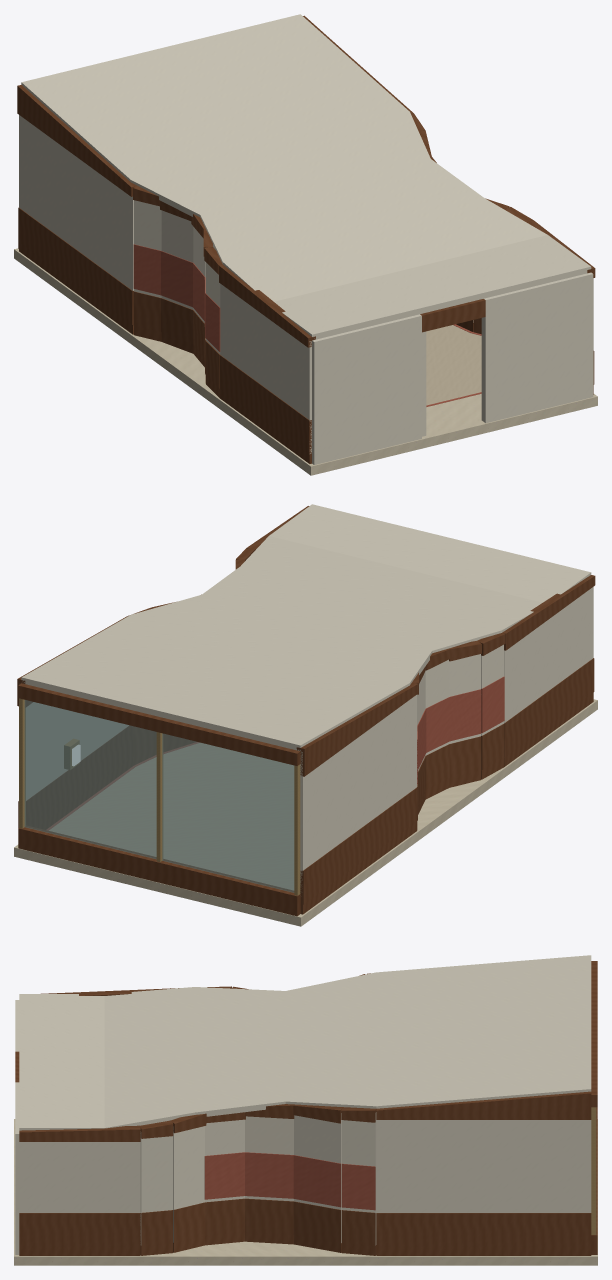
Rendered from AST-SUI-001.glb.
3 renders of one model, top to bottom at view 1: azimuth 30°, elevation 25°; view 2: azimuth 150°, elevation 25°; view 3: azimuth 270°, elevation 25°, orthographic.
Parts seen in each view (by area): view 1: SUI_Runtime_ivory_enamel, SUI_Runtime_warm_walnut, SUI_Runtime_warm_stone, SUI_Runtime_clay_weave, SUI_Runtime_oatmeal_weave; view 2: SUI_Runtime_ivory_enamel, SUI_Runtime_warm_walnut, SUI_Runtime_glass, SUI_Runtime_oatmeal_weave, SUI_Runtime_warm_stone, SUI_Runtime_clay_weave, SUI_Runtime_champagne_metal; view 3: SUI_Runtime_ivory_enamel, SUI_Runtime_warm_walnut, SUI_Runtime_warm_stone, SUI_Runtime_clay_weave, SUI_Runtime_champagne_metal.
Part boxes in pixels (left/top/right/bottom): SUI_Runtime_ivory_enamel: left=19, top=14, right=593, bottom=464; SUI_Runtime_warm_walnut: left=17, top=15, right=595, bottom=463; SUI_Runtime_warm_stone: left=14, top=248, right=597, bottom=475; SUI_Runtime_clay_weave: left=133, top=244, right=481, bottom=406; SUI_Runtime_oatmeal_weave: left=426, top=325, right=481, bottom=405; SUI_Runtime_ivory_enamel: left=21, top=504, right=593, bottom=885; SUI_Runtime_warm_walnut: left=17, top=506, right=595, bottom=916; SUI_Runtime_glass: left=24, top=700, right=294, bottom=892; SUI_Runtime_oatmeal_weave: left=49, top=743, right=293, bottom=890; SUI_Runtime_warm_stone: left=14, top=699, right=597, bottom=926; SUI_Runtime_clay_weave: left=46, top=676, right=504, bottom=830; SUI_Runtime_champagne_metal: left=19, top=698, right=300, bottom=895; SUI_Runtime_ivory_enamel: left=15, top=955, right=591, bottom=1254; SUI_Runtime_warm_walnut: left=15, top=961, right=597, bottom=1255; SUI_Runtime_warm_stone: left=14, top=1119, right=597, bottom=1265; SUI_Runtime_clay_weave: left=204, top=1152, right=375, bottom=1210; SUI_Runtime_champagne_metal: left=591, top=1107, right=596, bottom=1234.
Size of the model in its own units: 7.2 by 4.26 by 12.9.
Materials: 9 (7 with a texture image).
